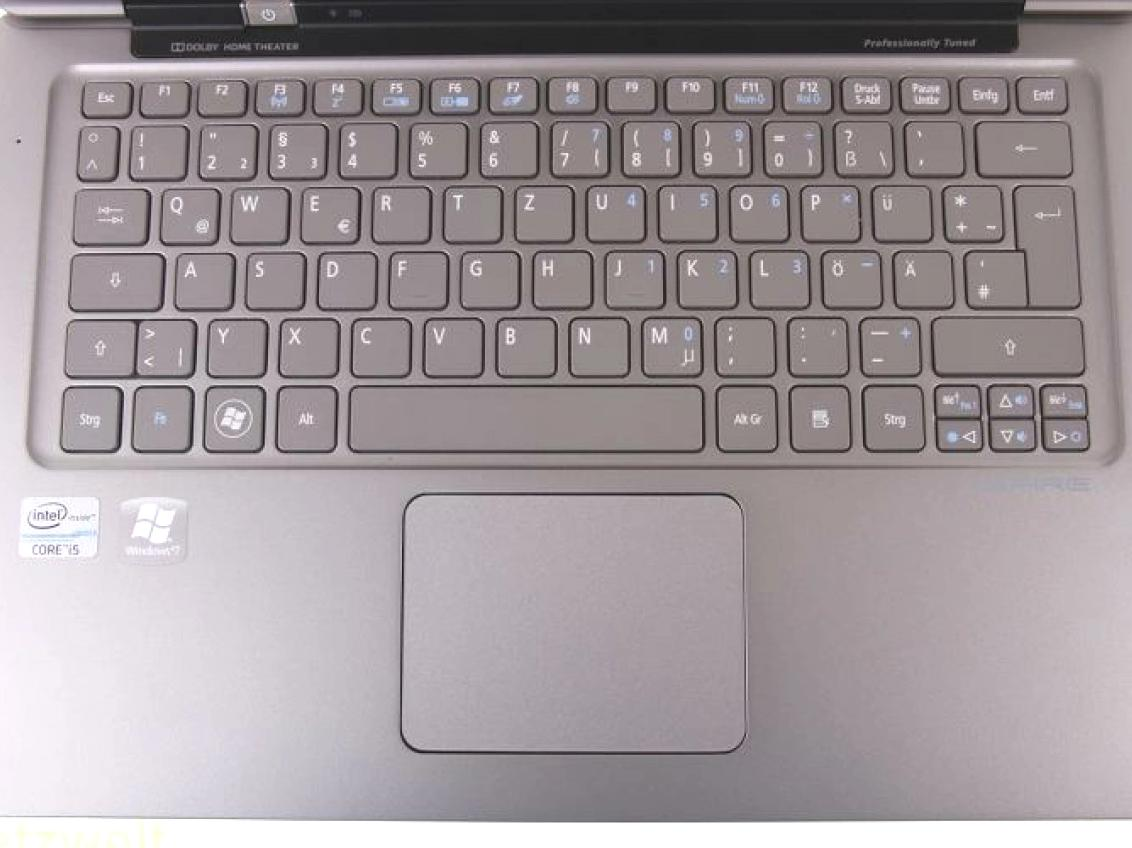0: (760, 117, 823, 175)
1: (126, 120, 185, 178)
2: (194, 119, 256, 177)
3: (262, 118, 325, 177)
4: (334, 117, 393, 175)
5: (404, 118, 464, 175)
6: (475, 117, 535, 175)
7: (547, 117, 607, 175)
8: (618, 117, 679, 175)
9: (689, 117, 751, 175)
a: (170, 248, 231, 307)
accent: (900, 115, 960, 174)
ae: (888, 245, 951, 306)
alt-left: (273, 381, 337, 451)
altgr-right: (712, 381, 777, 451)
b: (490, 312, 555, 375)
c: (346, 313, 409, 375)
caret: (73, 122, 116, 178)
comma: (709, 312, 772, 374)
d: (313, 247, 374, 308)
del: (971, 116, 1070, 175)
e: (296, 182, 358, 242)
enter: (1010, 181, 1079, 306)
f: (384, 247, 446, 307)
g: (456, 246, 516, 306)
h: (528, 245, 589, 306)
hash: (960, 245, 1023, 306)
i: (654, 180, 716, 240)
j: (601, 246, 663, 307)
k: (674, 245, 736, 306)
keyboard: (33, 52, 1110, 472)
l: (746, 245, 808, 306)
less: (132, 313, 194, 375)
m: (637, 313, 701, 375)
minus: (855, 312, 919, 374)
n: (564, 312, 625, 374)
o: (725, 180, 788, 241)
oe: (818, 246, 881, 306)
p: (797, 180, 861, 240)
plus: (938, 180, 1001, 240)
point: (783, 312, 848, 373)
q: (155, 183, 217, 242)
r: (367, 181, 429, 241)
s: (241, 247, 302, 308)
shift-left: (59, 315, 132, 375)
shift-lock: (64, 248, 162, 310)
shift-right: (928, 311, 1083, 375)
space: (346, 380, 702, 452)
ss: (829, 116, 891, 174)
strg-left: (56, 381, 120, 451)
strg-right: (858, 380, 924, 452)
t: (439, 181, 500, 240)
tab: (68, 183, 147, 243)
u: (582, 181, 644, 241)
ue: (867, 180, 929, 240)
v: (419, 312, 482, 374)
w: (226, 181, 285, 241)
x: (275, 313, 337, 375)
y: (203, 314, 265, 375)
z: (510, 180, 570, 240)
